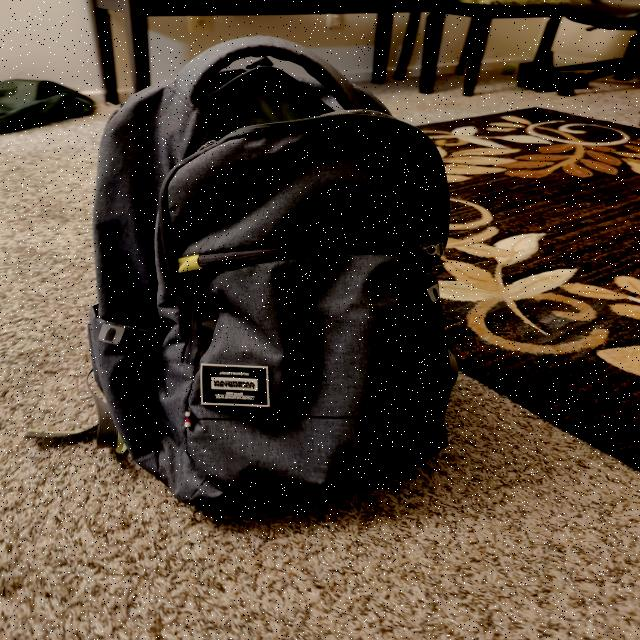bag: (85, 22, 442, 518)
